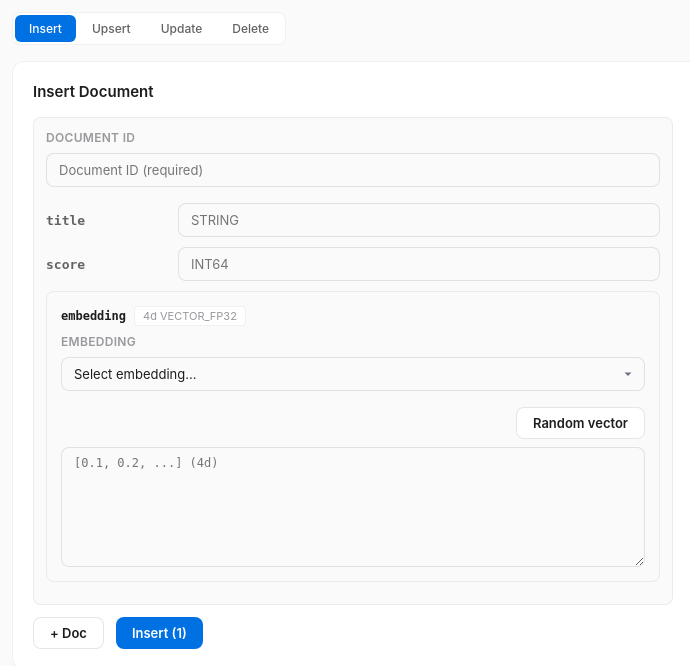
Test: MutateTab › switches to Delete tab and shows By ID mode
Click the button "Delete" at (251,28), box [218,15,283,42]
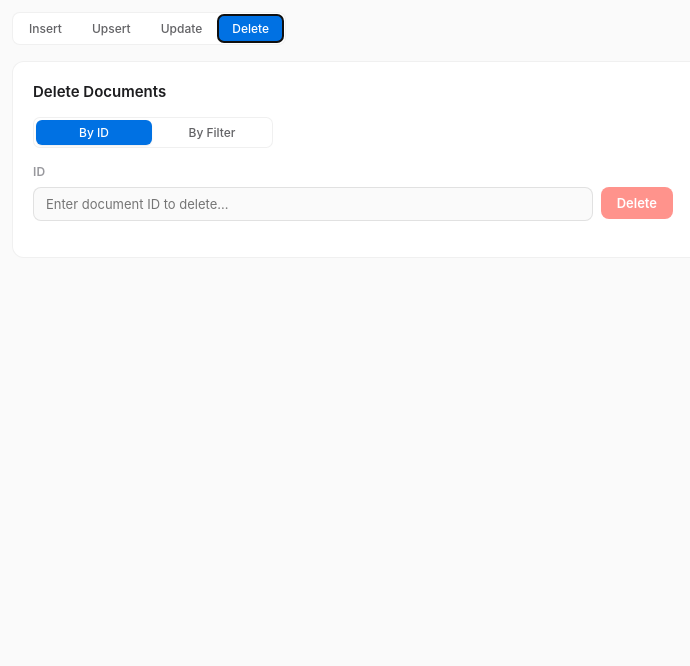
Check: the text "Delete Documents" is shown, box [33,82,166,101]
Check: the button "By ID" is shown, box [36,120,152,145]
Check: the button "By Filter" is shown, box [154,120,270,145]
